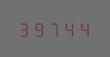four: (63, 20, 77, 37), (78, 20, 92, 37)
nine: (33, 20, 47, 37)
seven: (48, 20, 62, 37)
three: (18, 20, 32, 37)
